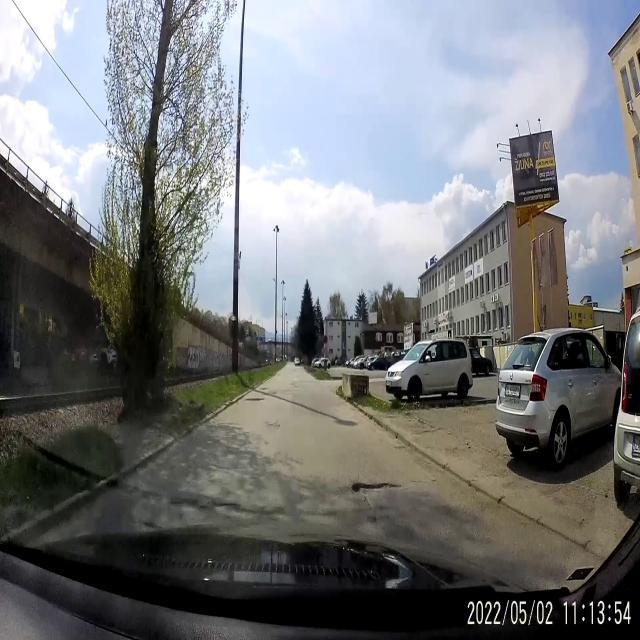Pothole: (348, 471, 399, 506)
